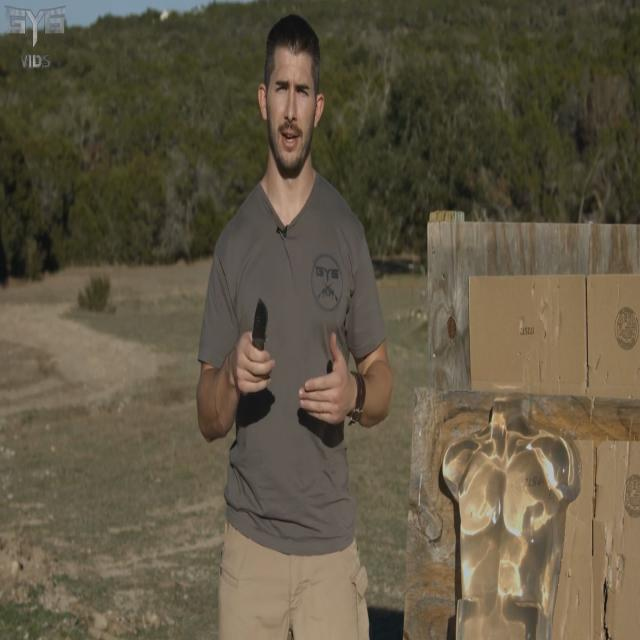knife: (251, 290, 272, 354)
